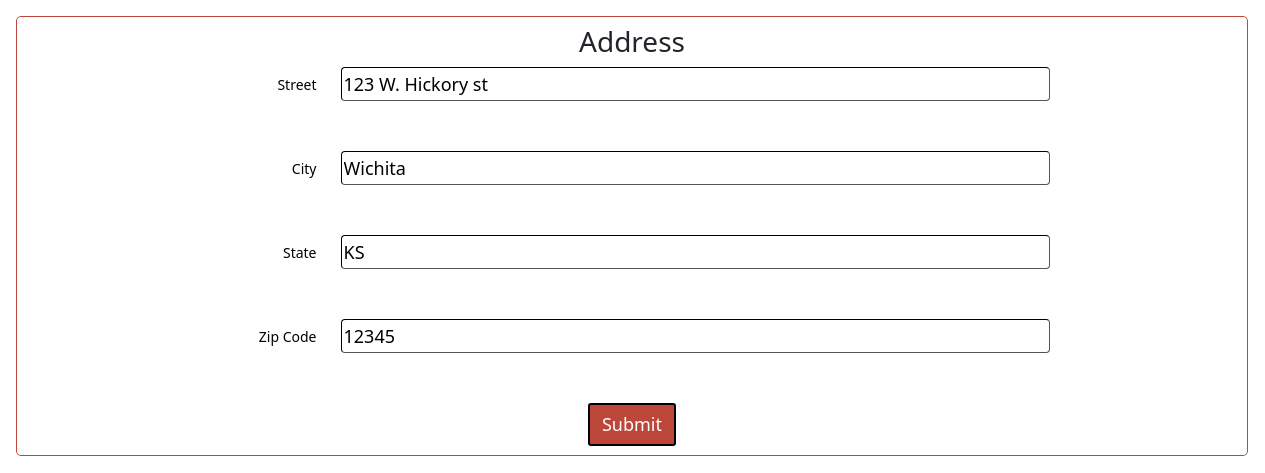
Test: shows error message when invalid inputs are given
Replace the text in the field labelled "State" with "invalid state": (695, 252) x1=340 y1=235 x2=1050 y2=269
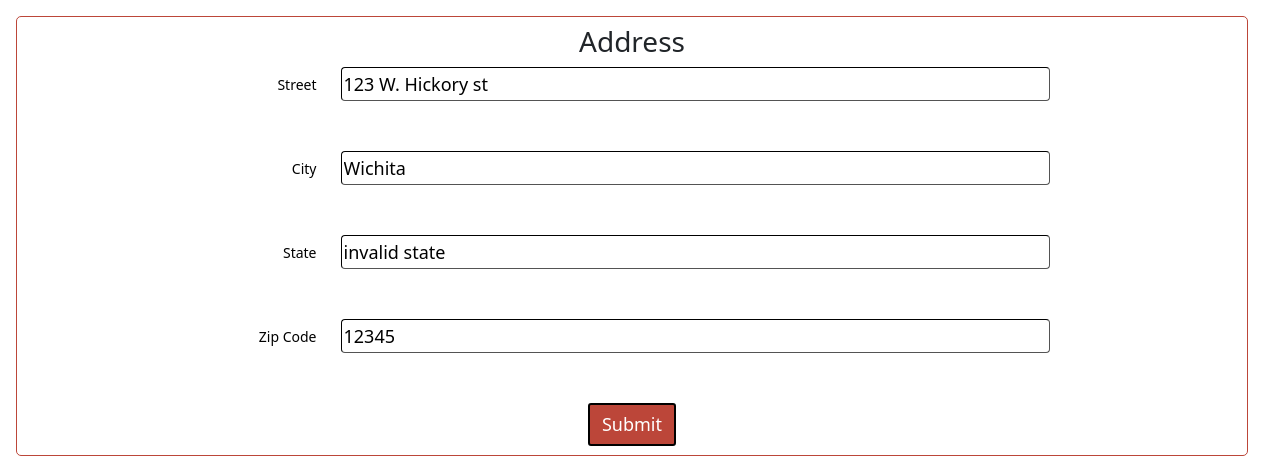
Click the button "Submit": (632, 424) x1=588 y1=403 x2=676 y2=446
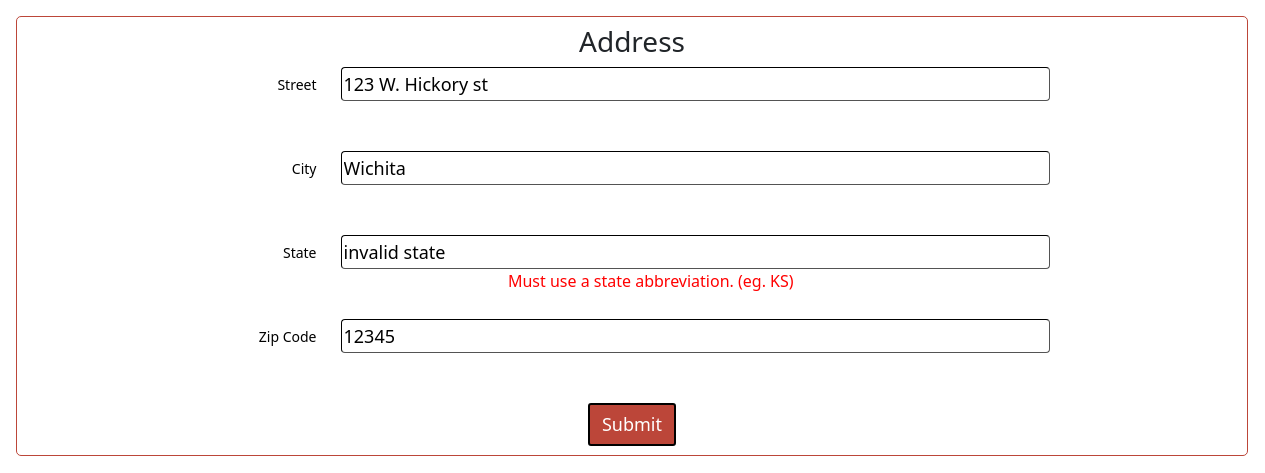
expect the text "Must use a state abbreviation. (eg. KS)" is shown: met, box x1=508 y1=270 x2=794 y2=292
